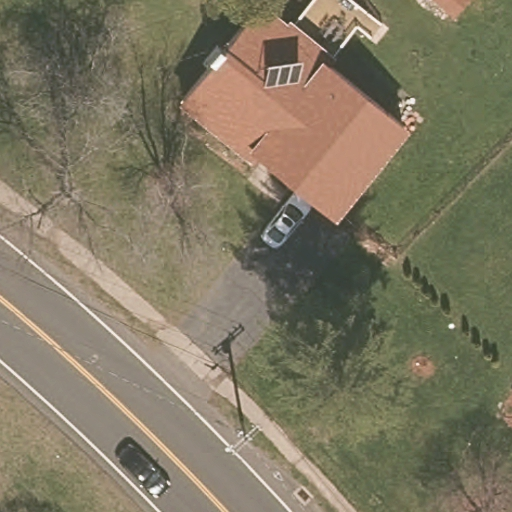DT: (224, 421, 261, 460)
